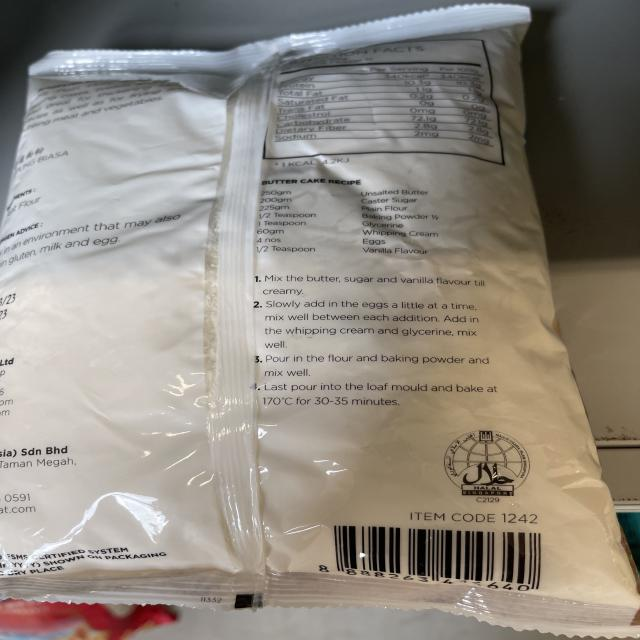object_name: (30, 49, 585, 622)
